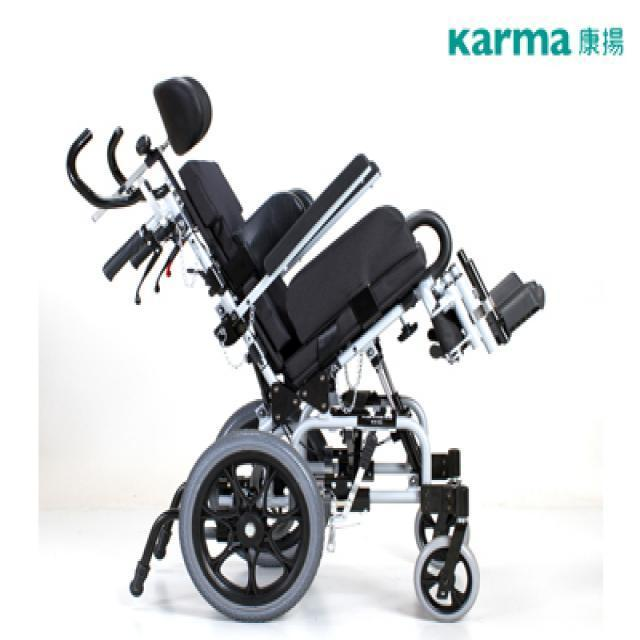wheelchairs: (67, 74, 542, 621)
